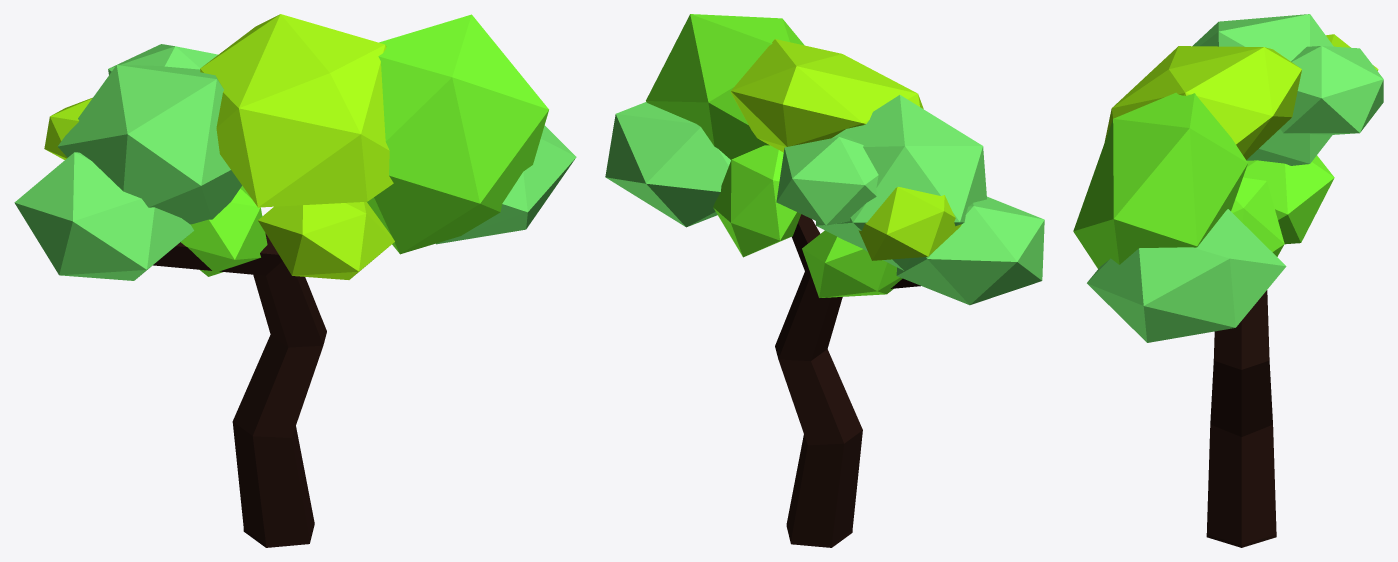
Rendered from 세계수2.fbx.
3 views of the same model, side by side, from view 1: azimuth 30°, elevation 25°; view 2: azimuth 150°, elevation 25°; view 3: azimuth 270°, elevation 25° (orthographic). The views are drawn at different scales.
Visible parts, largest first — view 1: Cylinder003; view 2: Cylinder003; view 3: Cylinder003.
Part boxes in pixels (x1,y1,x2,y2): Cylinder003: (14, 14, 576, 547); Cylinder003: (605, 14, 1044, 547); Cylinder003: (1073, 14, 1383, 547).
Size of the model in its own units: 619 by 619 by 355.
